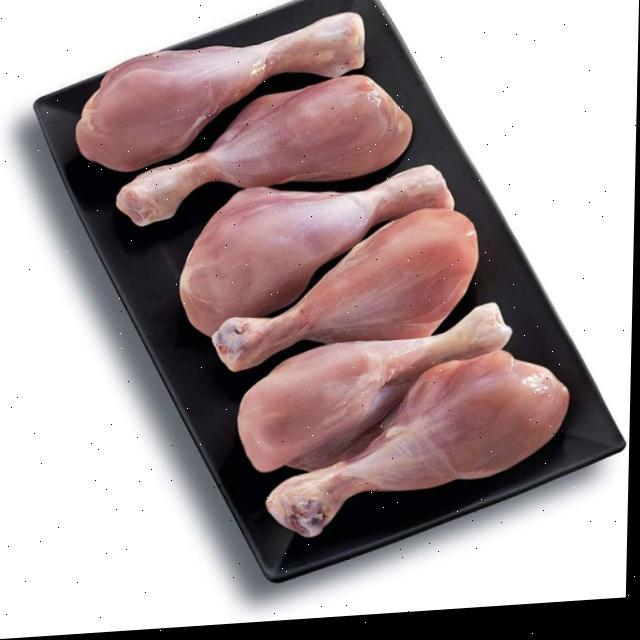leg: (255, 367, 580, 538), (188, 313, 524, 450), (190, 214, 478, 370), (109, 80, 410, 218), (183, 183, 464, 326), (55, 22, 368, 147)
